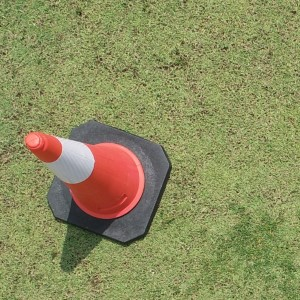traffic cone: (23, 120, 171, 246)
